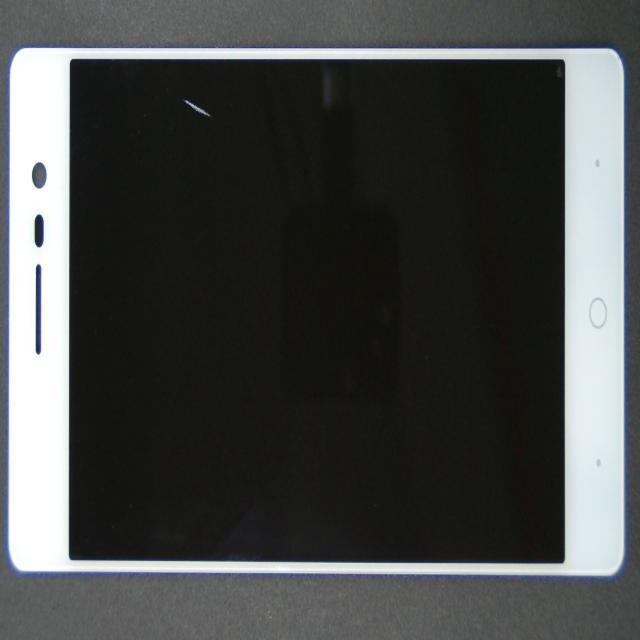scratch: (182, 86, 216, 131)
